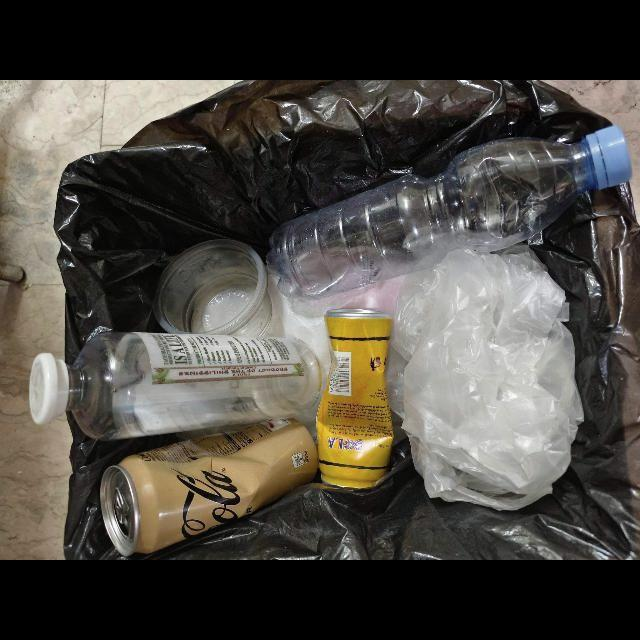aluminum: (99, 419, 319, 559), (316, 309, 394, 489)
glass_bottle: (28, 332, 321, 442)
plastic_bag: (395, 251, 582, 511)
plastic_bottle: (265, 126, 633, 298)
plastic_container: (152, 239, 272, 337)
